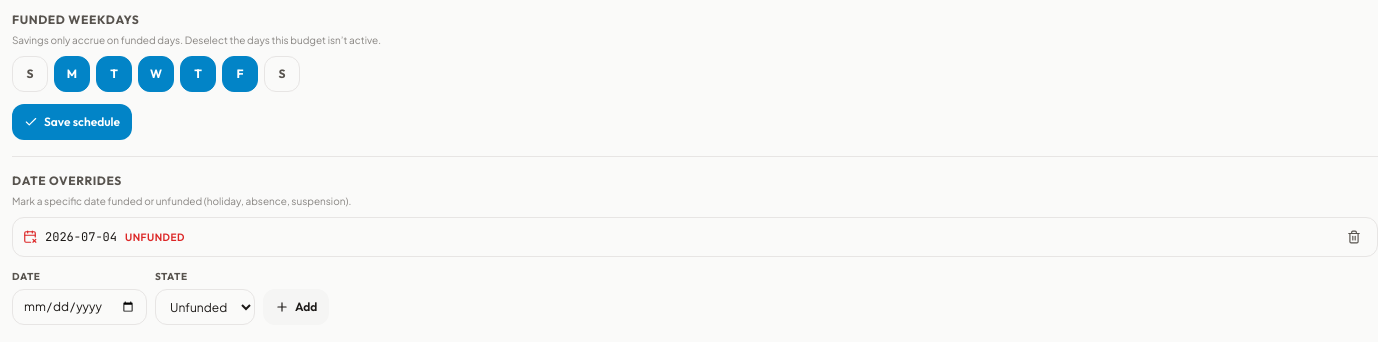
it: FundedDayConfig › toggles a weekday and saves the schedule via PUT (Req 1.3)
Click the button named "Sunday".
click(30, 74)  # box x1=12 y1=56 x2=48 y2=92
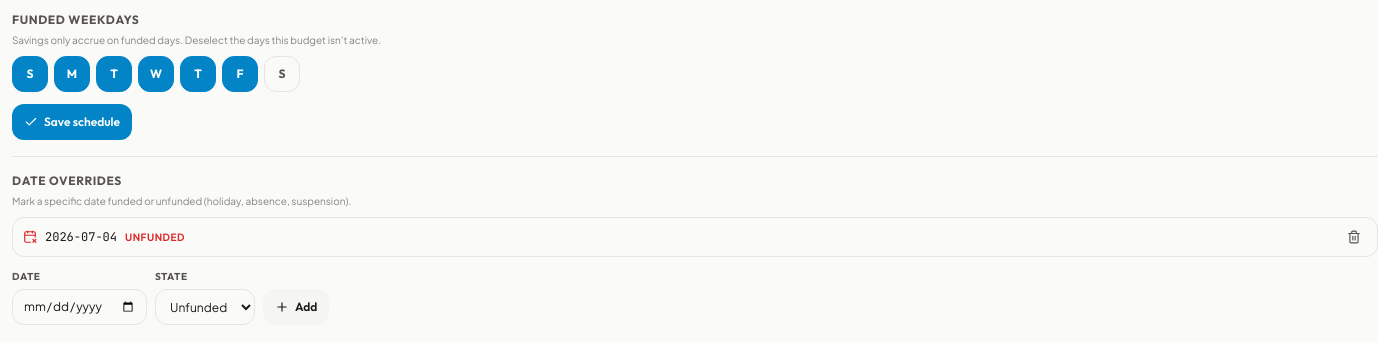
Click the button "Save schedule".
click(72, 122)  # box x1=12 y1=104 x2=132 y2=140
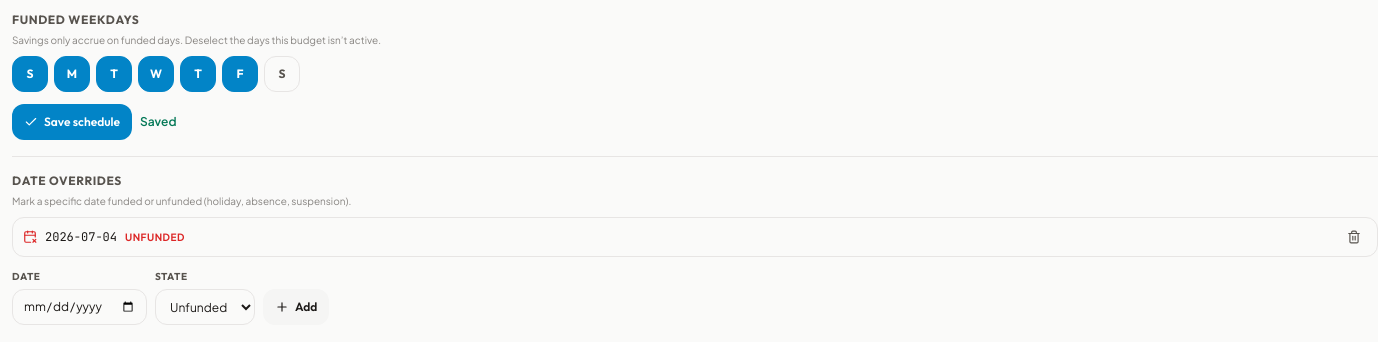
Result: the text "Saved" is shown at x1=140 y1=114 x2=176 y2=130
